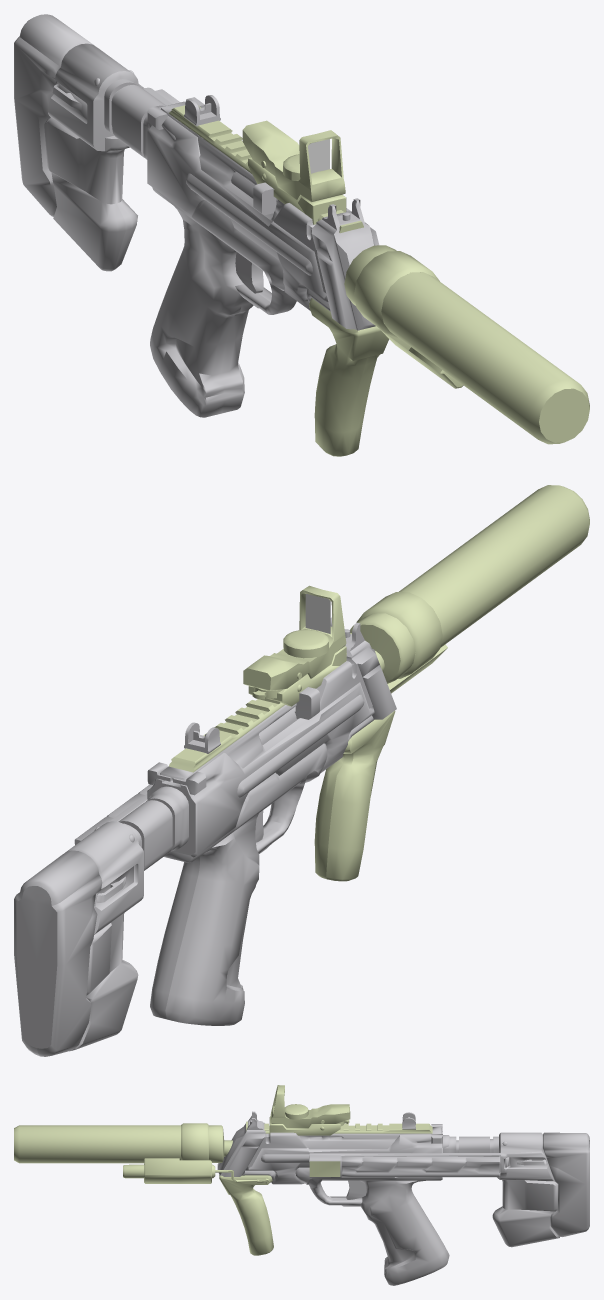
3 views of the same model, one above another, from view 1: azimuth 30°, elevation 25°; view 2: azimuth 150°, elevation 25°; view 3: azimuth 270°, elevation 25° (orthographic). The views are drawn at different scales.
Visible parts, largest first — view 1: Main Body, Scope, Charging Handle, ScopeLens; view 2: Main Body, Scope, Charging Handle, ScopeLens; view 3: Main Body, Magazine2, Scope, Magazine1, Main Body.001.
Boxes of the visible parts, x1=… form: Main Body: x1=14, y1=14, x2=589, y2=456; Scope: x1=242, y1=120, x2=346, y2=224; Charging Handle: x1=231, y1=172, x2=276, y2=215; ScopeLens: x1=308, y1=139, x2=329, y2=173; Main Body: x1=14, y1=485, x2=589, y2=1056; Scope: x1=243, y1=585, x2=346, y2=706; Charging Handle: x1=259, y1=687, x2=319, y2=744; ScopeLens: x1=305, y1=594, x2=330, y2=633; Main Body: x1=14, y1=1111, x2=589, y2=1285; Magazine2: x1=341, y1=1156, x2=500, y2=1176; Scope: x1=269, y1=1085, x2=350, y2=1135; Magazine1: x1=341, y1=1157, x2=498, y2=1177; Main Body.001: x1=309, y1=1153, x2=427, y2=1161.
Bounding box in the file's own units: 7.4 × 30.96 × 83.76.
